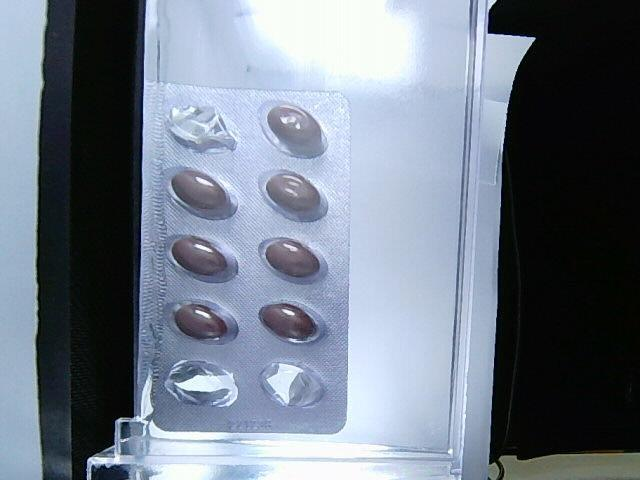Light Front: (134, 82, 354, 436)
No Pill Front: (165, 360, 237, 406), (168, 105, 236, 152), (260, 363, 325, 408)
Pill Front: (268, 105, 321, 145), (171, 236, 226, 274), (265, 240, 320, 277), (171, 170, 224, 208), (266, 173, 319, 211), (261, 304, 314, 340), (175, 304, 227, 339)
